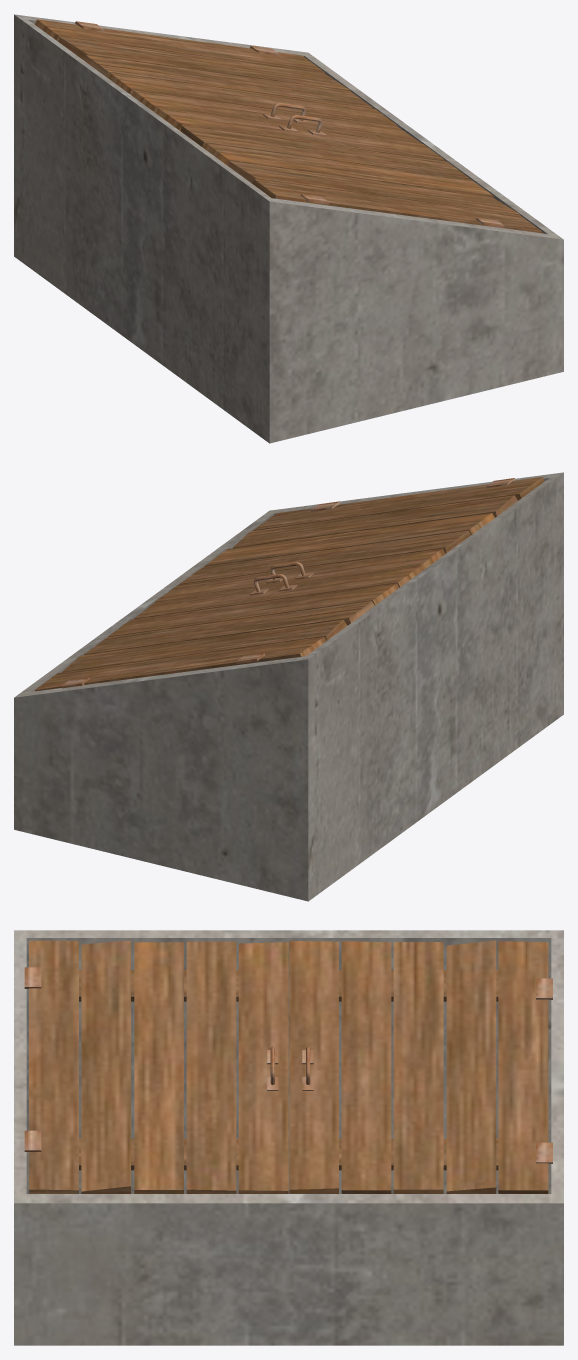
Rendered from basement_door.fbx.
The picture shows the model from 3 angles, top to bottom: view 1: azimuth 30°, elevation 25°; view 2: azimuth 150°, elevation 25°; view 3: azimuth 270°, elevation 25°; orthographic projection. The views are drawn at different scales.
Visible parts, largest first — view 1: polySurface420; view 2: polySurface420; view 3: polySurface420.
Boxes of the visible parts, box(x1,y1,x2,y2) form: polySurface420: box(14, 14, 563, 443); polySurface420: box(14, 472, 563, 901); polySurface420: box(14, 930, 563, 1345).
Bounding box in the file's own units: 0.014 × 0.021 × 0.011.
1 material, 1 textured.
